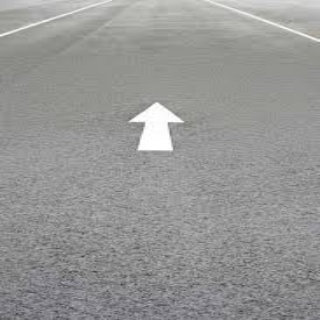road_oneway: (126, 98, 185, 159)
